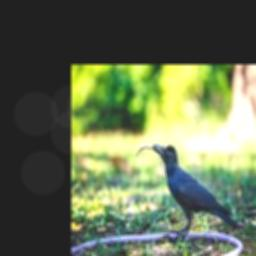Crow: (152, 144, 242, 235)
